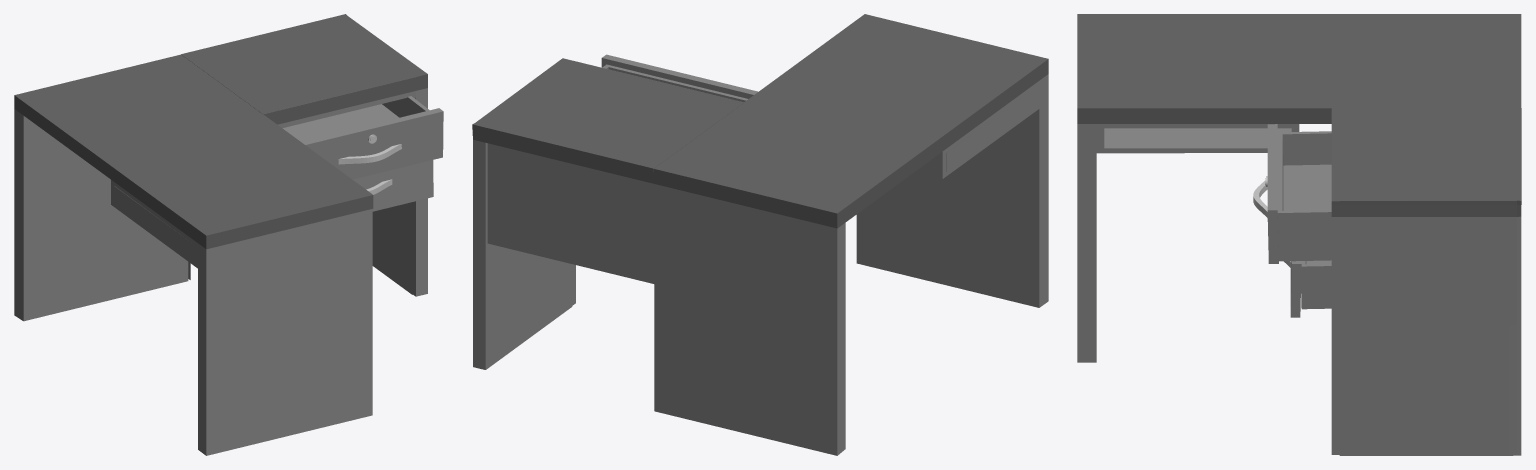
Rendered from Modelo escritorio L (paleta FBX).fbx.
3 views of the same model, side by side, from view 1: azimuth 30°, elevation 25°; view 2: azimuth 150°, elevation 25°; view 3: azimuth 270°, elevation 25° (orthographic). The views are drawn at different scales.
Visible parts, largest first — view 1: Escritorio, Cajon1, Cajon2; view 2: Escritorio, Cajon1; view 3: Escritorio, Cajon1, Cajon2.
Part boxes in pixels (bbox=[...]): Escritorio: bbox=[14, 14, 427, 455]; Cajon1: bbox=[282, 96, 443, 179]; Cajon2: bbox=[352, 160, 433, 211]; Escritorio: bbox=[472, 14, 1048, 455]; Cajon1: bbox=[601, 54, 758, 102]; Escritorio: bbox=[1077, 14, 1521, 455]; Cajon1: bbox=[1253, 124, 1331, 263]; Cajon2: bbox=[1284, 260, 1331, 317].
Bounding box in the file's own units: 120 × 76.02 × 120.
Materials: 1 (1 with a texture image).
